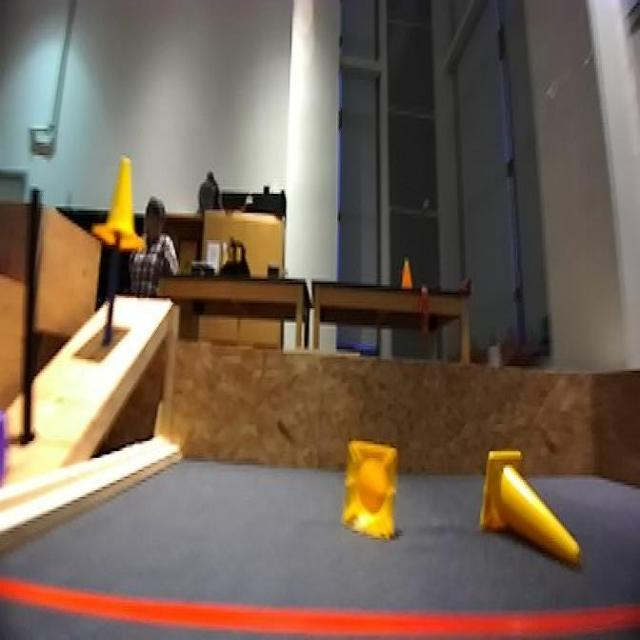frc_cone: (475, 446, 588, 570), (341, 441, 405, 539), (98, 150, 152, 264)
